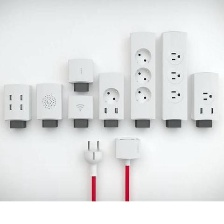three_eye_plug: (159, 29, 189, 122), (128, 30, 156, 121), (190, 69, 221, 122), (97, 69, 127, 122), (2, 81, 33, 121)
